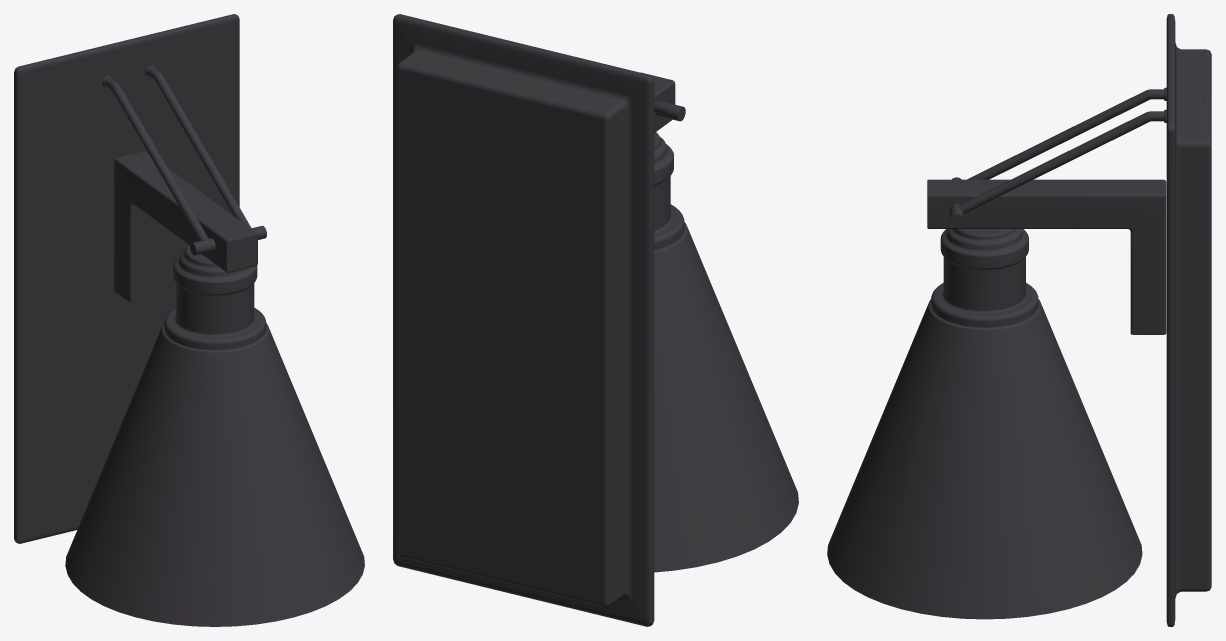
Rendered from abo-B07HK5CDRQ.glb.
The picture shows the model from 3 angles, left to right: view 1: azimuth 30°, elevation 25°; view 2: azimuth 150°, elevation 25°; view 3: azimuth 270°, elevation 25°; orthographic projection. The views are drawn at different scales.
Size of the model in its own units: 0.17 by 0.298 by 0.207.
Materials: 1 (1 with a texture image).
